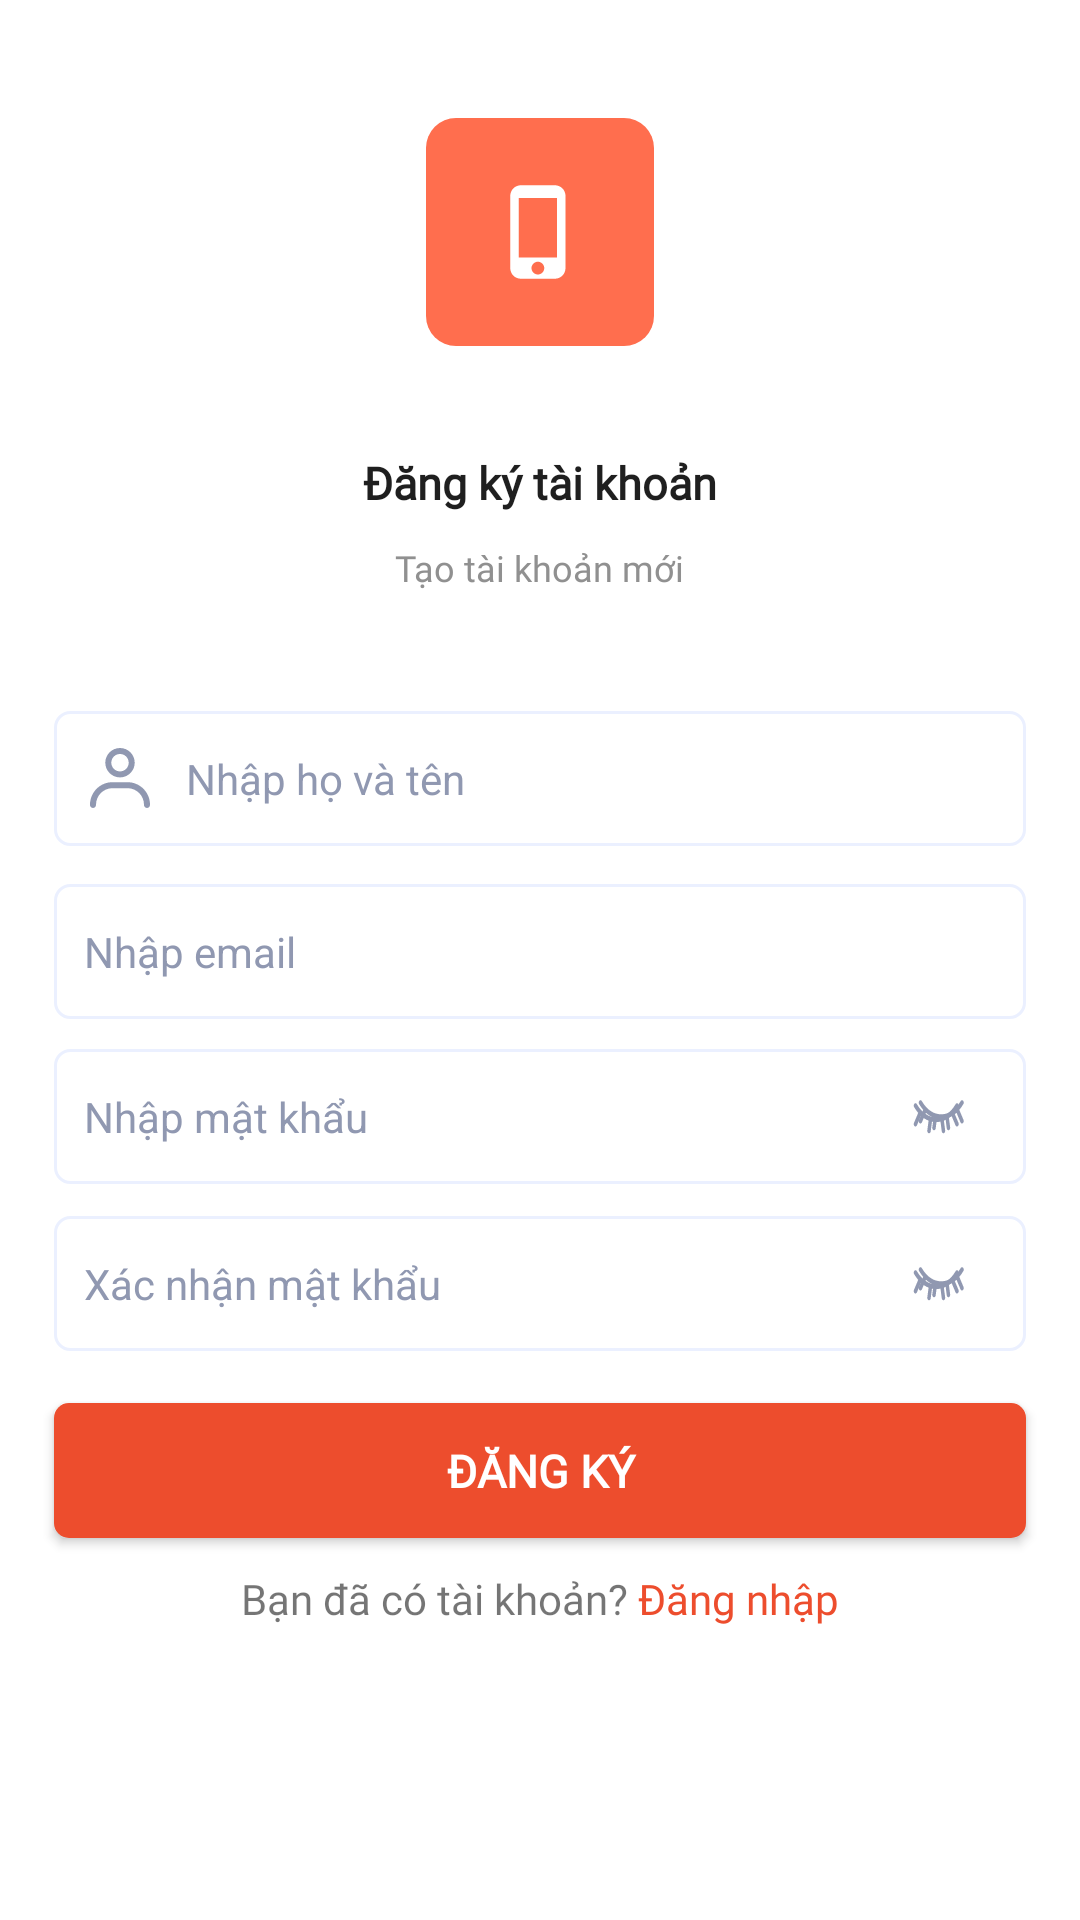

Icon click points for this 1080*1920 phone screenshot, format point (x, y):
eye hidden: point (938, 1117), point (938, 1284)
